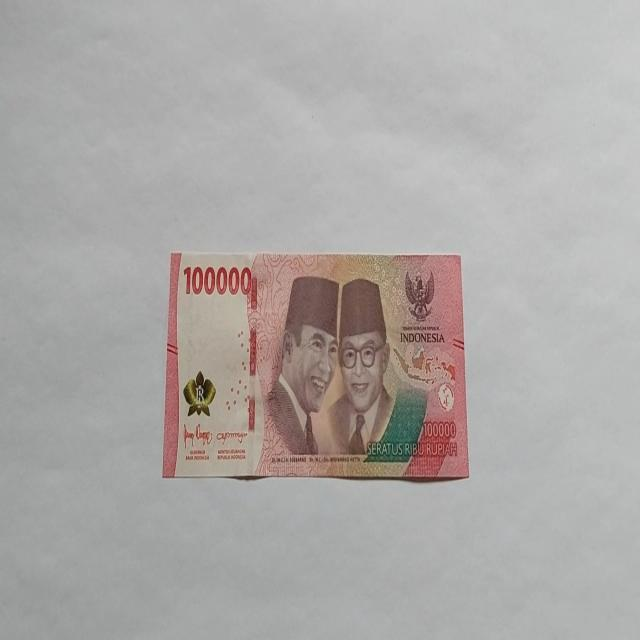seratus ribu rupiah: (162, 250, 470, 482), (257, 274, 340, 472)
